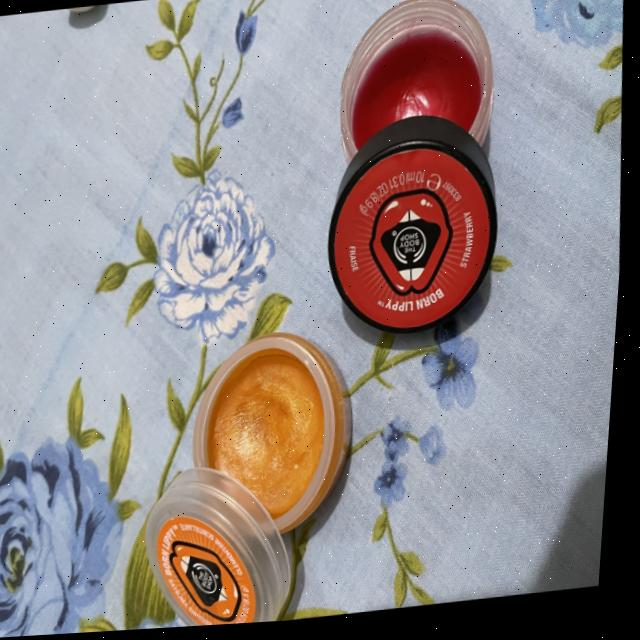lip balm: (306, 0, 525, 364), (132, 310, 377, 632), (176, 323, 375, 552), (321, 0, 505, 204)
